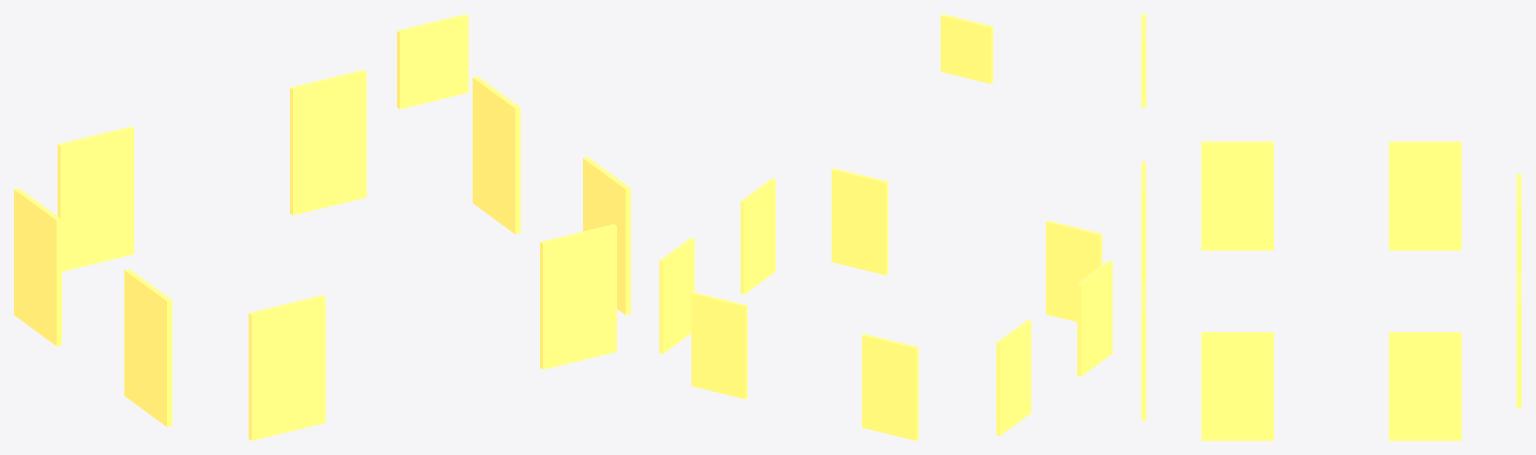
File: CandyHouse_Bungalow_Glow.glb
The picture shows the model from 3 angles, left to right: view 1: azimuth 30°, elevation 25°; view 2: azimuth 150°, elevation 25°; view 3: azimuth 270°, elevation 25°; orthographic projection. The views are drawn at different scales.
Parts seen in each view (by area): view 1: CandyHouse_Bungalow_Glow; view 2: CandyHouse_Bungalow_Glow; view 3: CandyHouse_Bungalow_Glow.
Boxes of the visible parts, x1,y1,x2,y2 form: CandyHouse_Bungalow_Glow: (14,14,630,440); CandyHouse_Bungalow_Glow: (659,14,1112,440); CandyHouse_Bungalow_Glow: (1141,14,1521,440).
Size of the model in its own units: 18.2 by 13.95 by 15.2.
